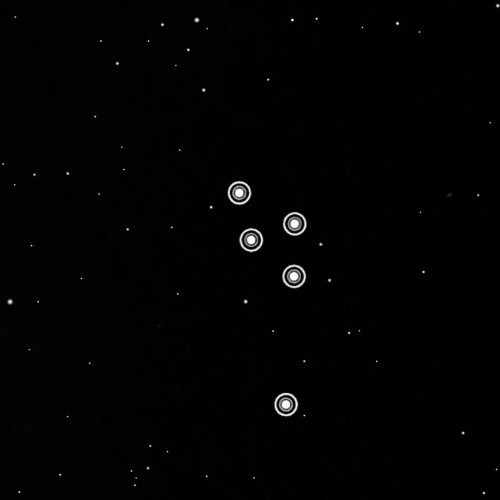delphinus: (220, 169, 315, 421)
